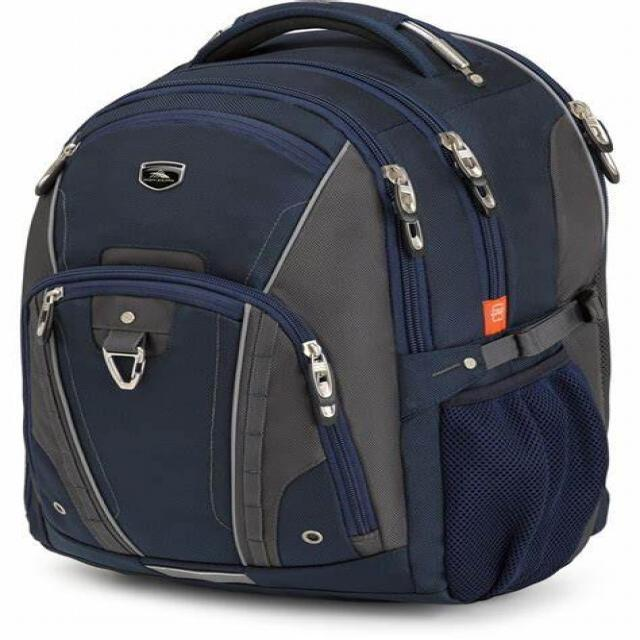Backpacks: (14, 3, 613, 613)
